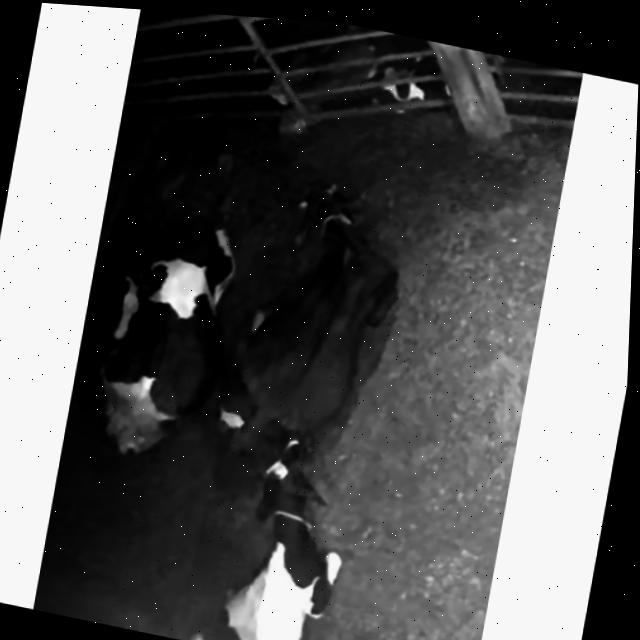lay: (200, 142, 427, 488), (58, 139, 256, 495), (154, 404, 413, 640)
